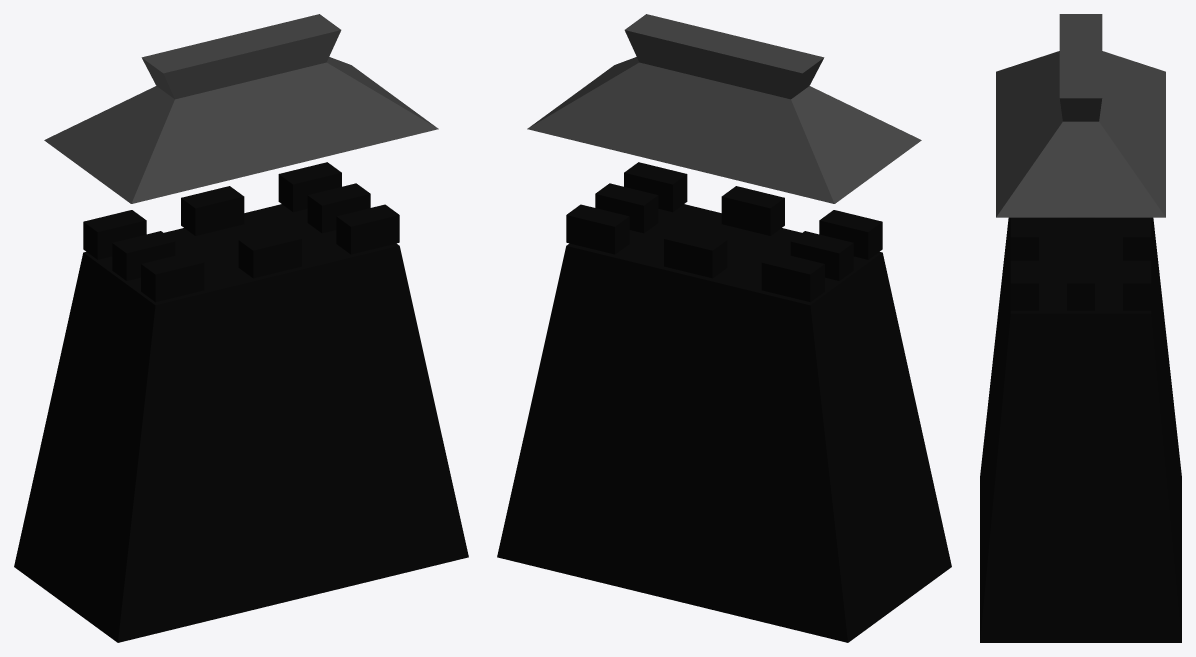
File: House03.obj
3 views of the same model, side by side, from view 1: azimuth 30°, elevation 25°; view 2: azimuth 150°, elevation 25°; view 3: azimuth 270°, elevation 25° (orthographic). The views are drawn at different scales.
Parts seen in each view (by area): view 1: House03; view 2: House03; view 3: House03.
Boxes of the visible parts, x1,y1,x2,y2 form: House03: (14, 14, 468, 642); House03: (497, 14, 951, 642); House03: (980, 14, 1181, 642).
Bounding box in the file's own units: 1.75 × 2.47 × 0.896.
1 material, 1 textured.
